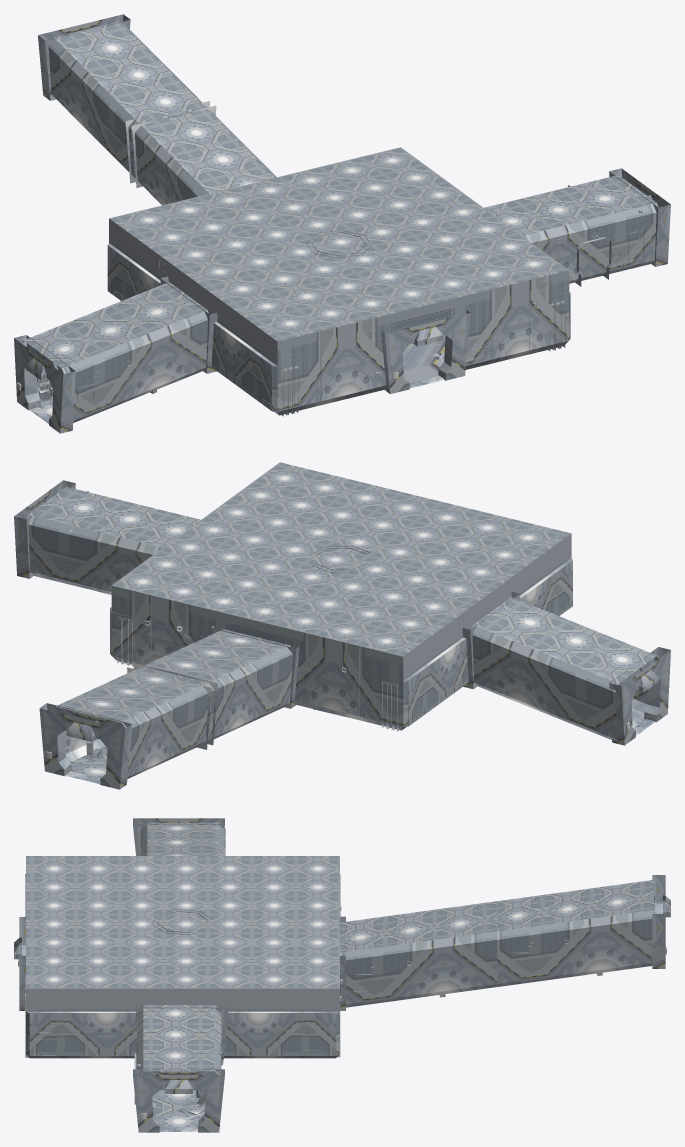
The model's file is Combined_Mesh_root_scene__11_1f1e19ed__ZombiesII_laboratory_03_d_5a0f8016_c1f257.obj.
The picture shows the model from 3 angles, top to bottom: view 1: azimuth 30°, elevation 25°; view 2: azimuth 150°, elevation 25°; view 3: azimuth 270°, elevation 25°; orthographic projection. The views are drawn at different scales.
Size of the model in its own units: 84.66 by 16.88 by 83.67.
291 materials, 291 textured.
